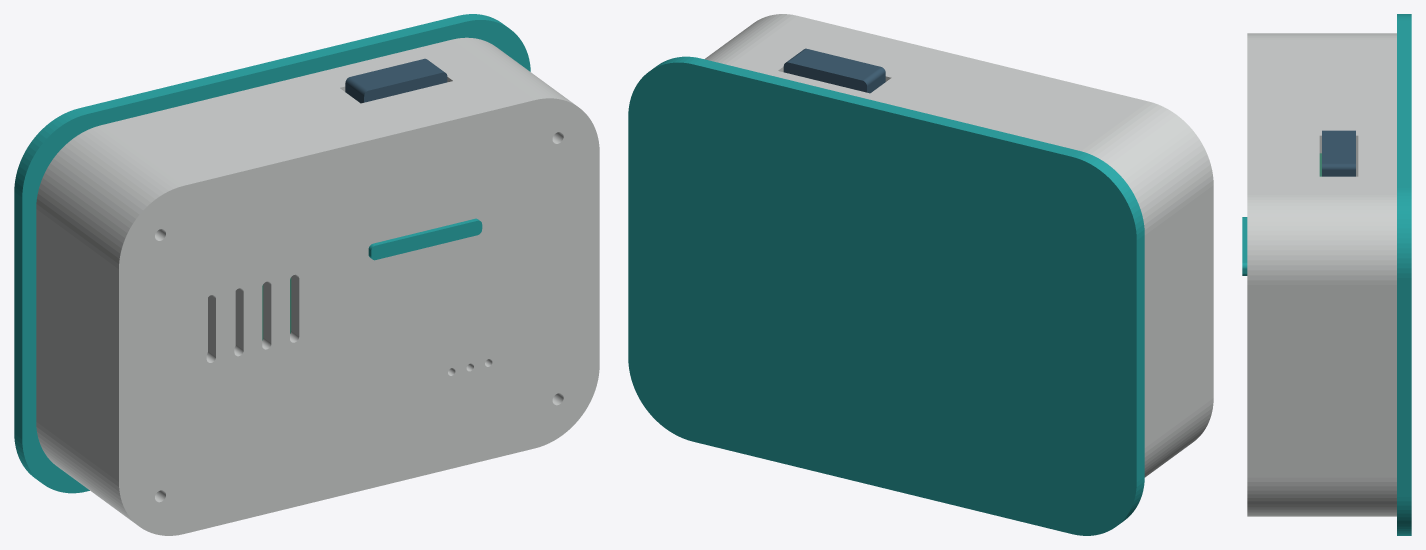
The model's file is baby_pod.glb.
3 views of the same model, side by side, from view 1: azimuth 30°, elevation 25°; view 2: azimuth 150°, elevation 25°; view 3: azimuth 270°, elevation 25° (orthographic). The views are drawn at different scales.
Parts seen in each view (by area): view 1: pod_lid, pod_base, desktop_foot, sensor_connector, status_lens; view 2: desktop_foot, pod_base, pod_lid, sensor_connector; view 3: pod_base, desktop_foot, pod_lid, sensor_connector, status_lens.
Part boxes in pixels (x1,y1,x2,y2): pod_lid: [111, 92, 599, 535]; pod_base: [36, 37, 567, 518]; desktop_foot: [14, 14, 530, 493]; sensor_connector: [345, 58, 447, 103]; status_lens: [368, 218, 482, 260]; desktop_foot: [628, 56, 1144, 535]; pod_base: [704, 20, 1205, 477]; pod_lid: [749, 14, 1213, 446]; sensor_connector: [783, 48, 885, 93]; pod_base: [1261, 33, 1396, 516]; desktop_foot: [1397, 14, 1411, 535]; pod_lid: [1247, 33, 1261, 516]; sensor_connector: [1322, 130, 1355, 176]; status_lens: [1242, 217, 1247, 275].
Size of the model in its own units: 0.11 by 0.078 by 0.035.
